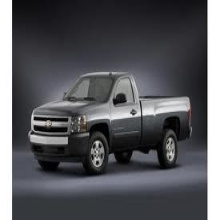no damage: (27, 71, 193, 174)
